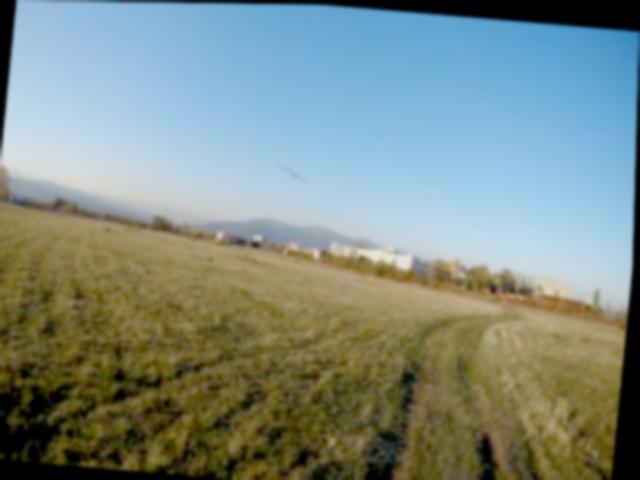uav: (274, 156, 312, 187)
